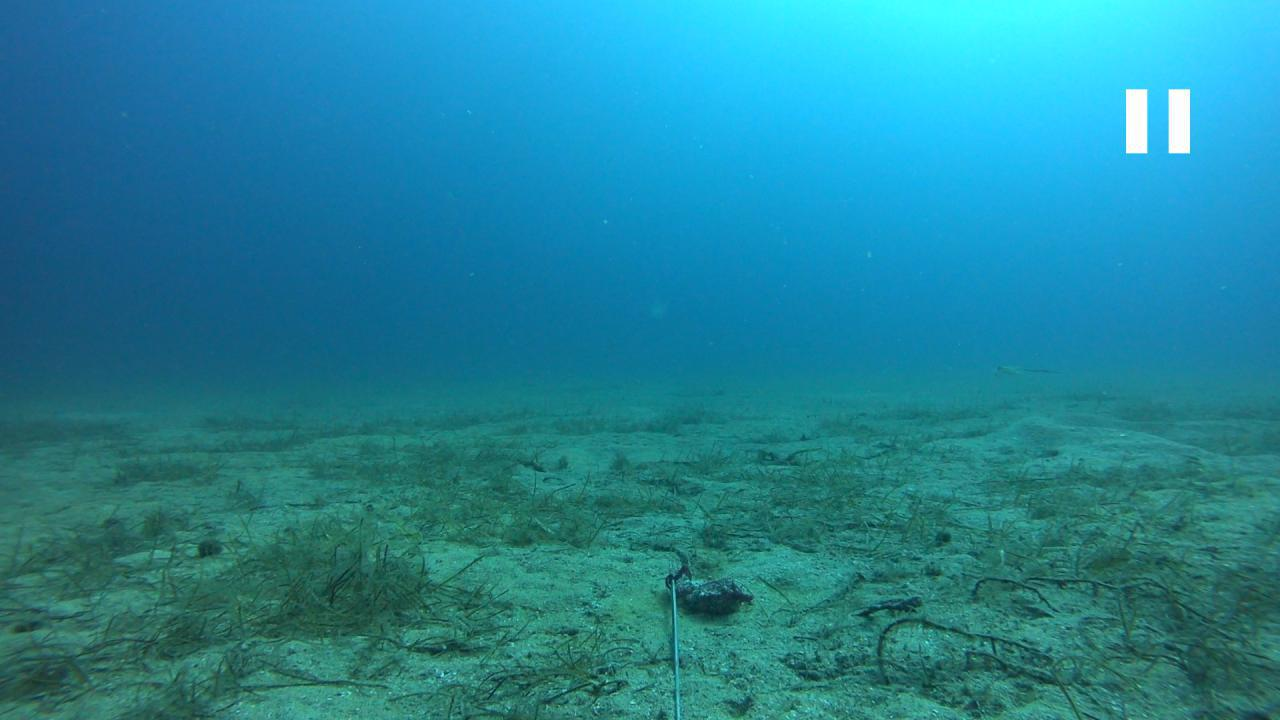dasyatis: (990, 362, 1062, 376)
